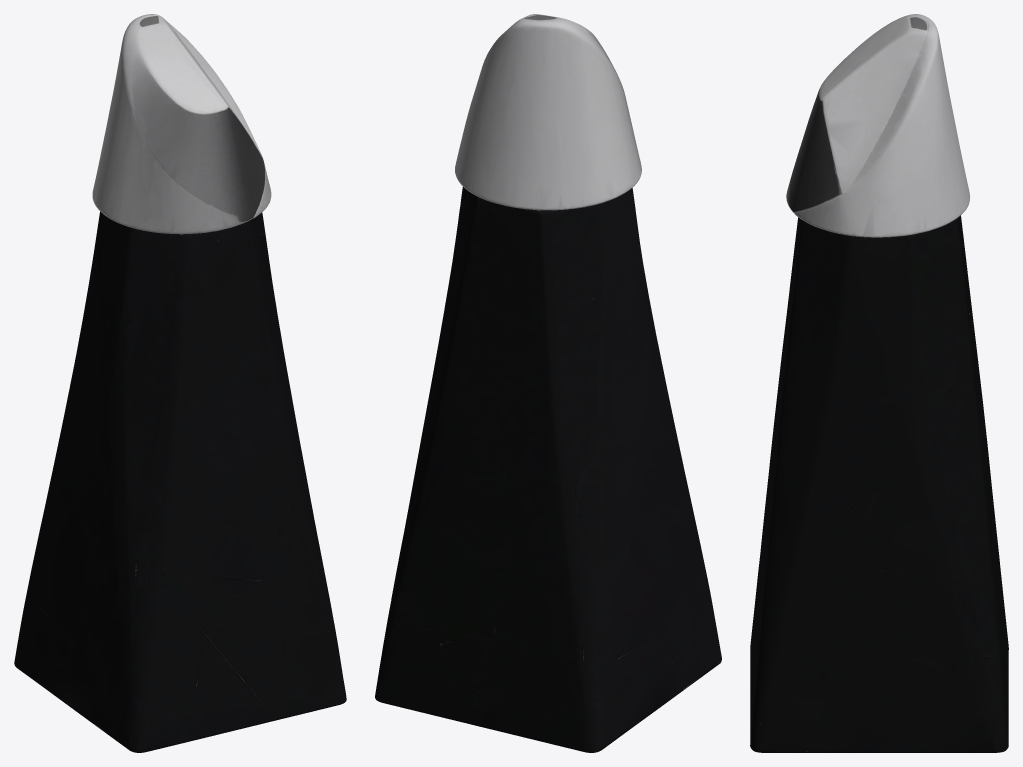
File: pawn-black-hd.glb
3 views of the same model, side by side, from view 1: azimuth 30°, elevation 25°; view 2: azimuth 150°, elevation 25°; view 3: azimuth 270°, elevation 25° (orthographic). The views are drawn at different scales.
Bounding box in the file's own units: 0.3811 × 1.1 × 0.3839.
Materials: 1 (1 with a texture image).
